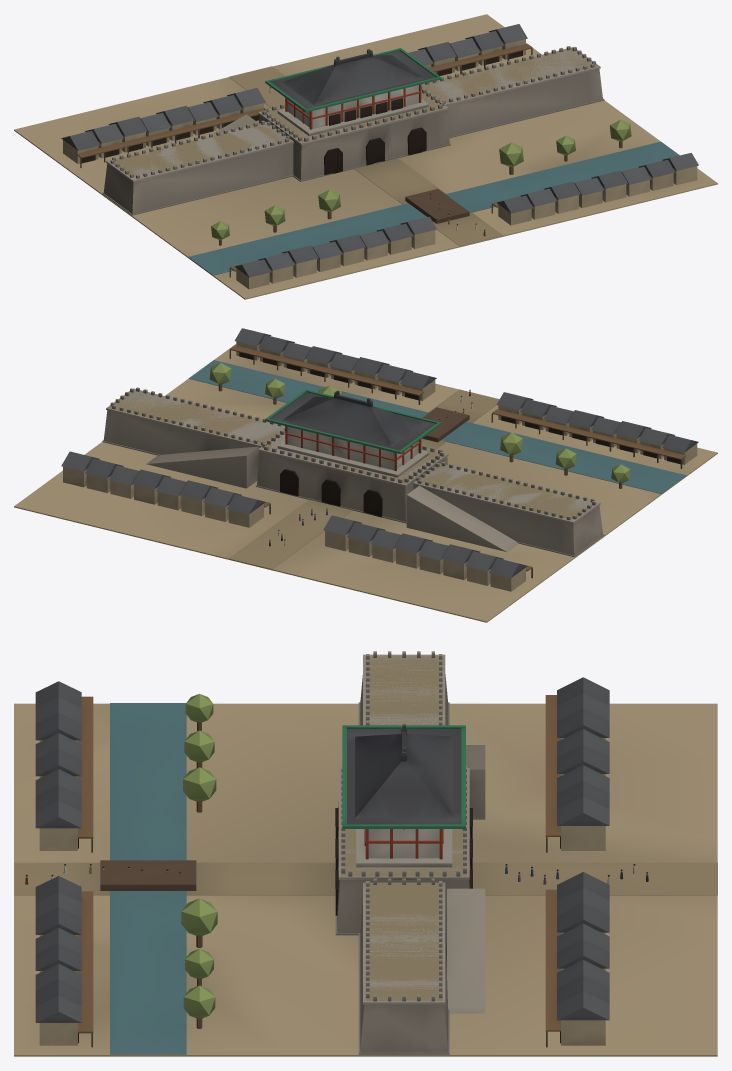
The model's file is south-gate.glb.
3 renders of one model, top to bottom at view 1: azimuth 30°, elevation 25°; view 2: azimuth 150°, elevation 25°; view 3: azimuth 270°, elevation 25°, orthographic. The views are drawn at different scales.
Parts seen in each view (by area): view 1: p0_gates, p1_town, p2_town; view 2: p0_gates, p1_town, p2_town; view 3: p0_gates, p1_town, p2_town.
Boxes of the visible parts, box(x1,y1,x2,y2) form: p0_gates: box(14, 14, 717, 299); p1_town: box(61, 24, 698, 289); p2_town: box(211, 48, 631, 245); p0_gates: box(14, 344, 717, 622); p1_town: box(61, 328, 698, 591); p2_town: box(209, 363, 630, 546); p0_gates: box(14, 651, 717, 1056); p1_town: box(35, 677, 609, 1047); p2_town: box(25, 694, 648, 1028).
Bounding box in the file's own units: 130 × 24.96 × 110.
